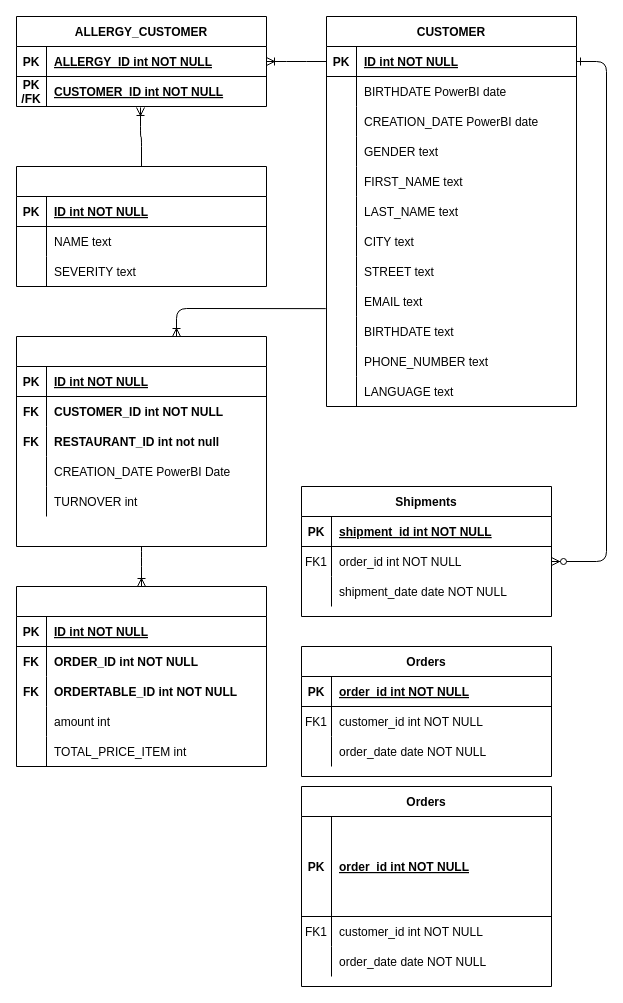
This 623x1003 diagram has some shape labels left out. Each missing label, with the box of its shape:
ALLERGY: (16, 166, 266, 286)
ORDER: (16, 336, 266, 546)
ORDER_ITEM: (16, 586, 266, 766)
